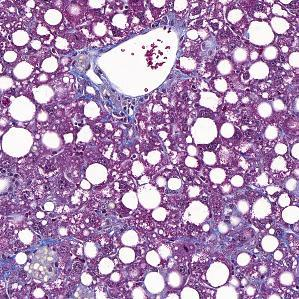fibrosis: (96, 92, 154, 133)
